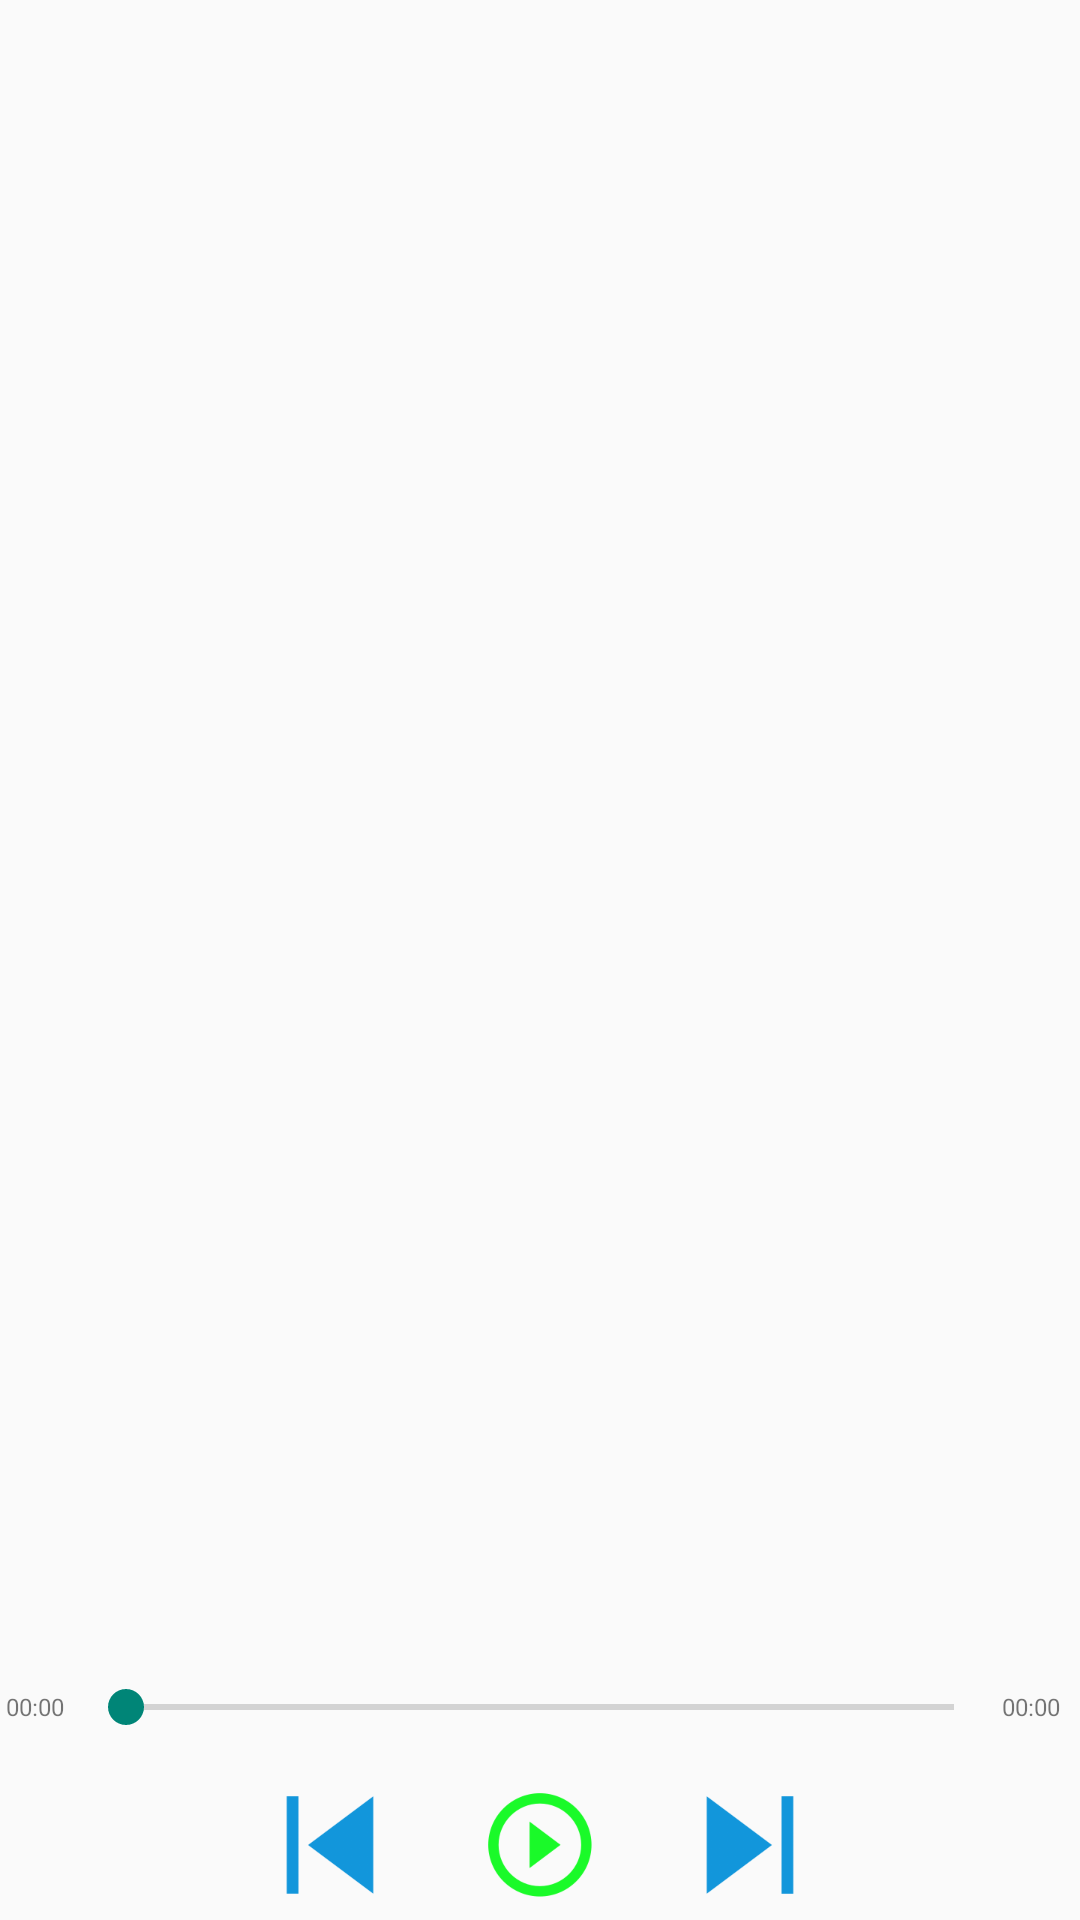

Point at icon controls on the screen. Image size 1080×1920, points as (x,y).
shangyiqu: (330,1845)
start: (540,1845)
xiayiqu: (750,1845)
